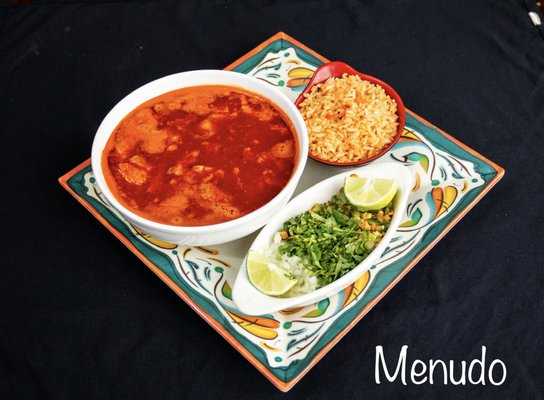sushi: (91, 68, 310, 247), (236, 153, 434, 321), (294, 65, 406, 167)
